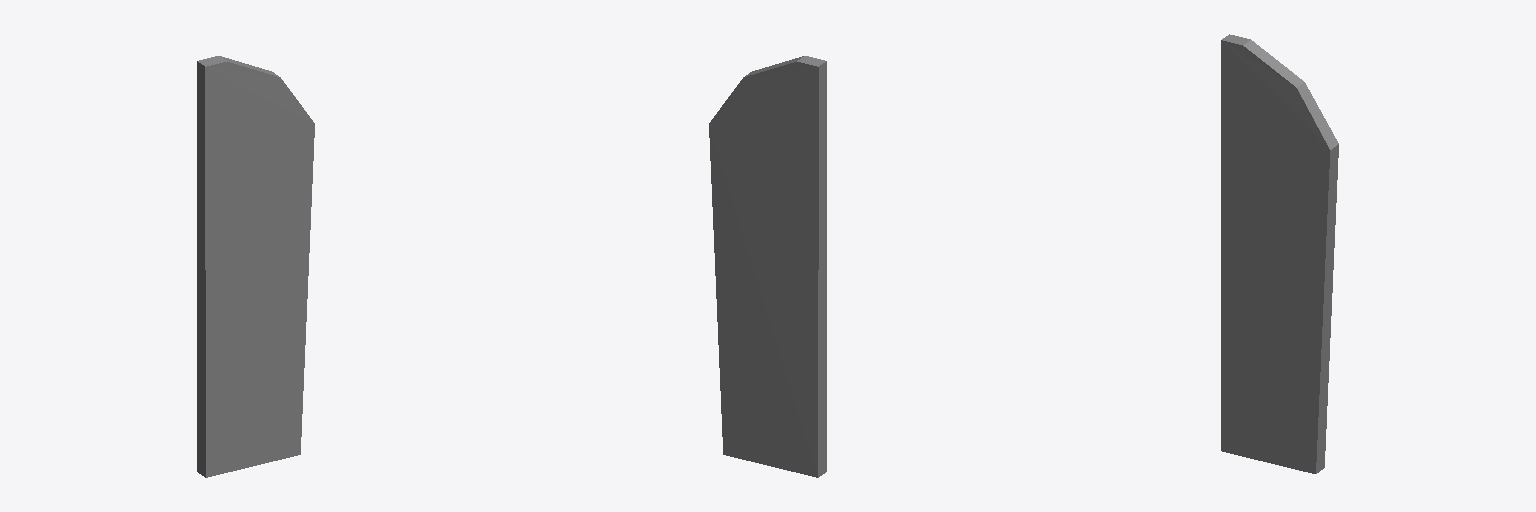
The model's file is ArcDoor.obj.
3 renders of one model, left to right at view 1: azimuth 30°, elevation 25°; view 2: azimuth 150°, elevation 25°; view 3: azimuth 330°, elevation 25°, orthographic.
Visible parts, largest first — view 1: Grim_Bear_Arc.001; view 2: Grim_Bear_Arc.001; view 3: Grim_Bear_Arc.001.
Part boxes in pixels (left/top/right/bottom): Grim_Bear_Arc.001: left=197, top=56, right=314, bottom=477; Grim_Bear_Arc.001: left=709, top=56, right=826, bottom=477; Grim_Bear_Arc.001: left=1221, top=34, right=1338, bottom=473.
Size of the model in its own units: 6.49 by 23.28 by 0.9023.